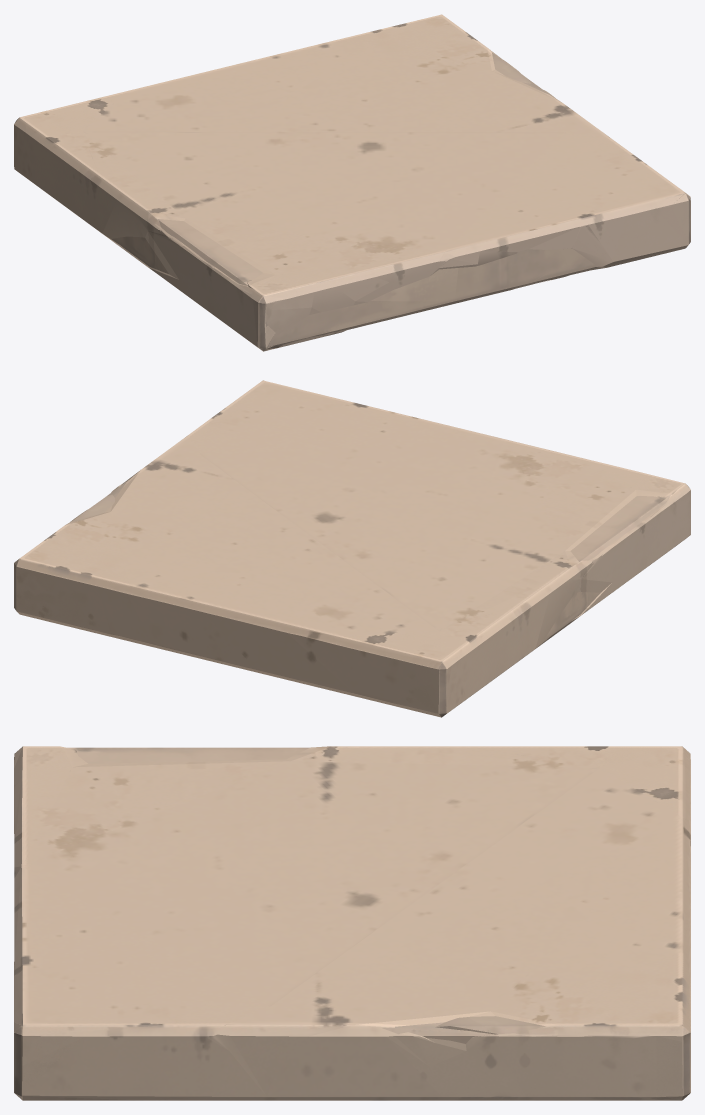
The model's file is Meshy_AI_vet_clinic_floor_balanced_20261026_texture_remesh_tri.fbx.
The picture shows the model from 3 angles, top to bottom: view 1: azimuth 30°, elevation 25°; view 2: azimuth 150°, elevation 25°; view 3: azimuth 270°, elevation 25°; orthographic projection. The views are drawn at different scales.
Parts seen in each view (by area): view 1: output_unwrapped; view 2: output_unwrapped; view 3: output_unwrapped.
Part boxes in pixels (x1,y1,x2,y2): output_unwrapped: (14, 14, 690, 351); output_unwrapped: (14, 380, 690, 717); output_unwrapped: (14, 746, 690, 1100).
Size of the model in its own units: 190 by 23.52 by 190.
Materials: 1 (1 with a texture image).
